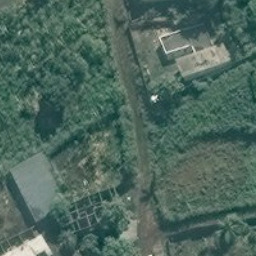buildings: (161, 27, 236, 78), (11, 150, 61, 217), (5, 231, 54, 256)
